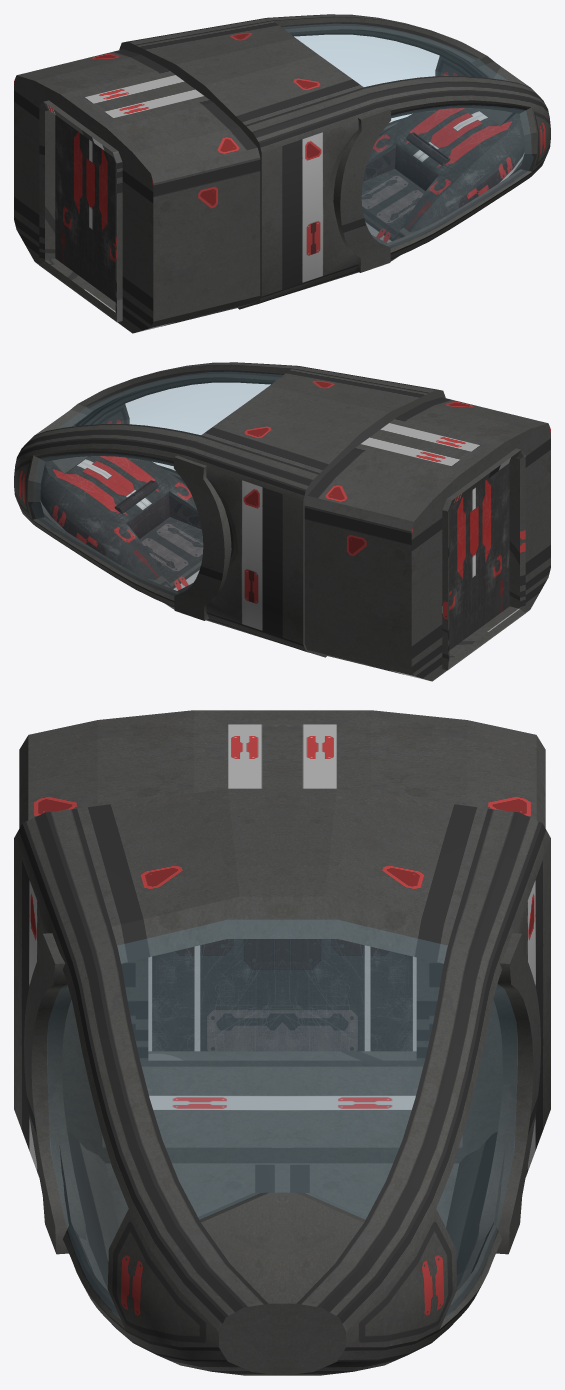
3 renders of one model, top to bottom at view 1: azimuth 30°, elevation 25°; view 2: azimuth 150°, elevation 25°; view 3: azimuth 270°, elevation 25°, orthographic. The views are drawn at different scales.
Parts seen in each view (by area): view 1: SpaceShipBody, Cube.007; view 2: SpaceShipBody, Cube.007; view 3: SpaceShipBody, Cube.007.
Boxes of the visible parts, <box> form: SpaceShipBody: <box>14,14,550,333</box>; Cube.007: <box>282,24,533,246</box>; SpaceShipBody: <box>14,362,550,681</box>; Cube.007: <box>31,372,282,594</box>; SpaceShipBody: <box>14,710,550,1375</box>; Cube.007: <box>47,920,517,1317</box>.
Bounding box in the file's own units: 5.17 × 2.17 × 2.81.
Materials: 3 (2 with a texture image).
